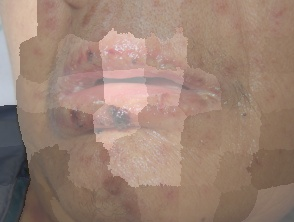SJS-TEN: (44, 30, 213, 99), (42, 88, 219, 147)
